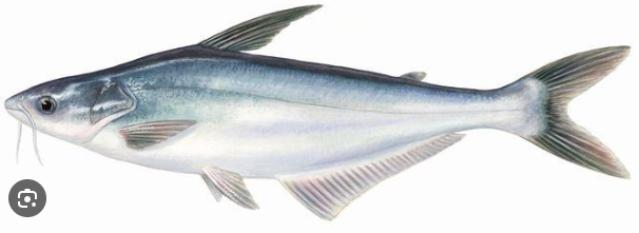Mulut: (6, 88, 46, 138)
Sirip Anal: (278, 122, 480, 228)
Sirip Dada: (116, 112, 206, 154)
Sirip Ekor: (512, 42, 638, 188)
Sirip Perut: (193, 164, 263, 220)
Sirip Punggung: (193, 3, 337, 61)
